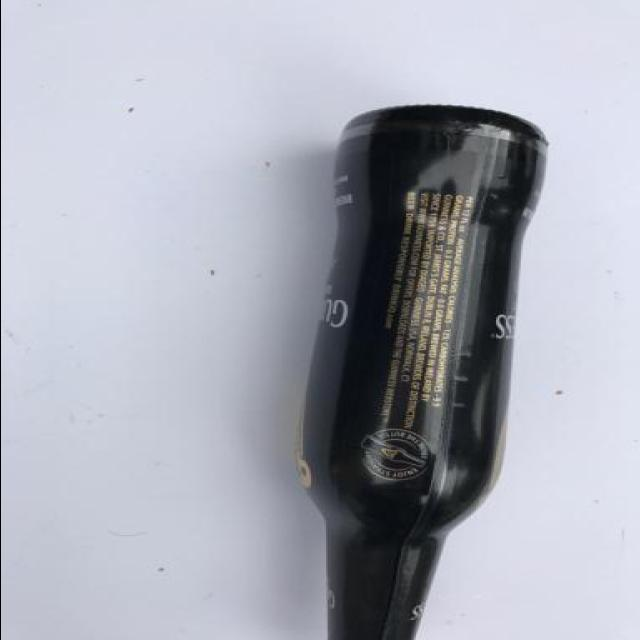litter: (280, 102, 560, 638)
